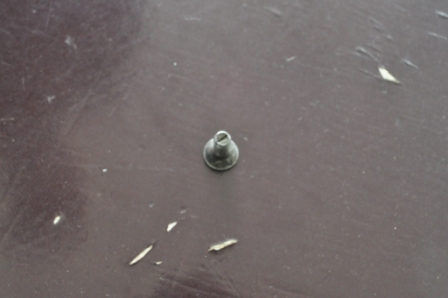bolt: (200, 128, 243, 172)
